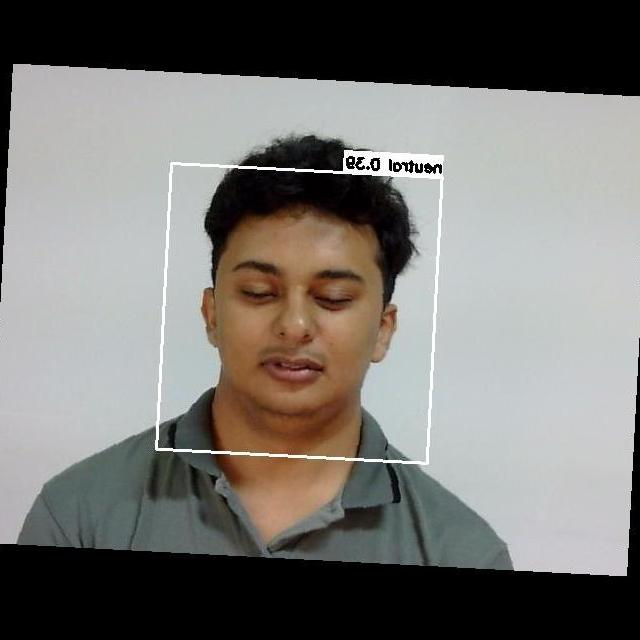Sad: (215, 248, 382, 405)
